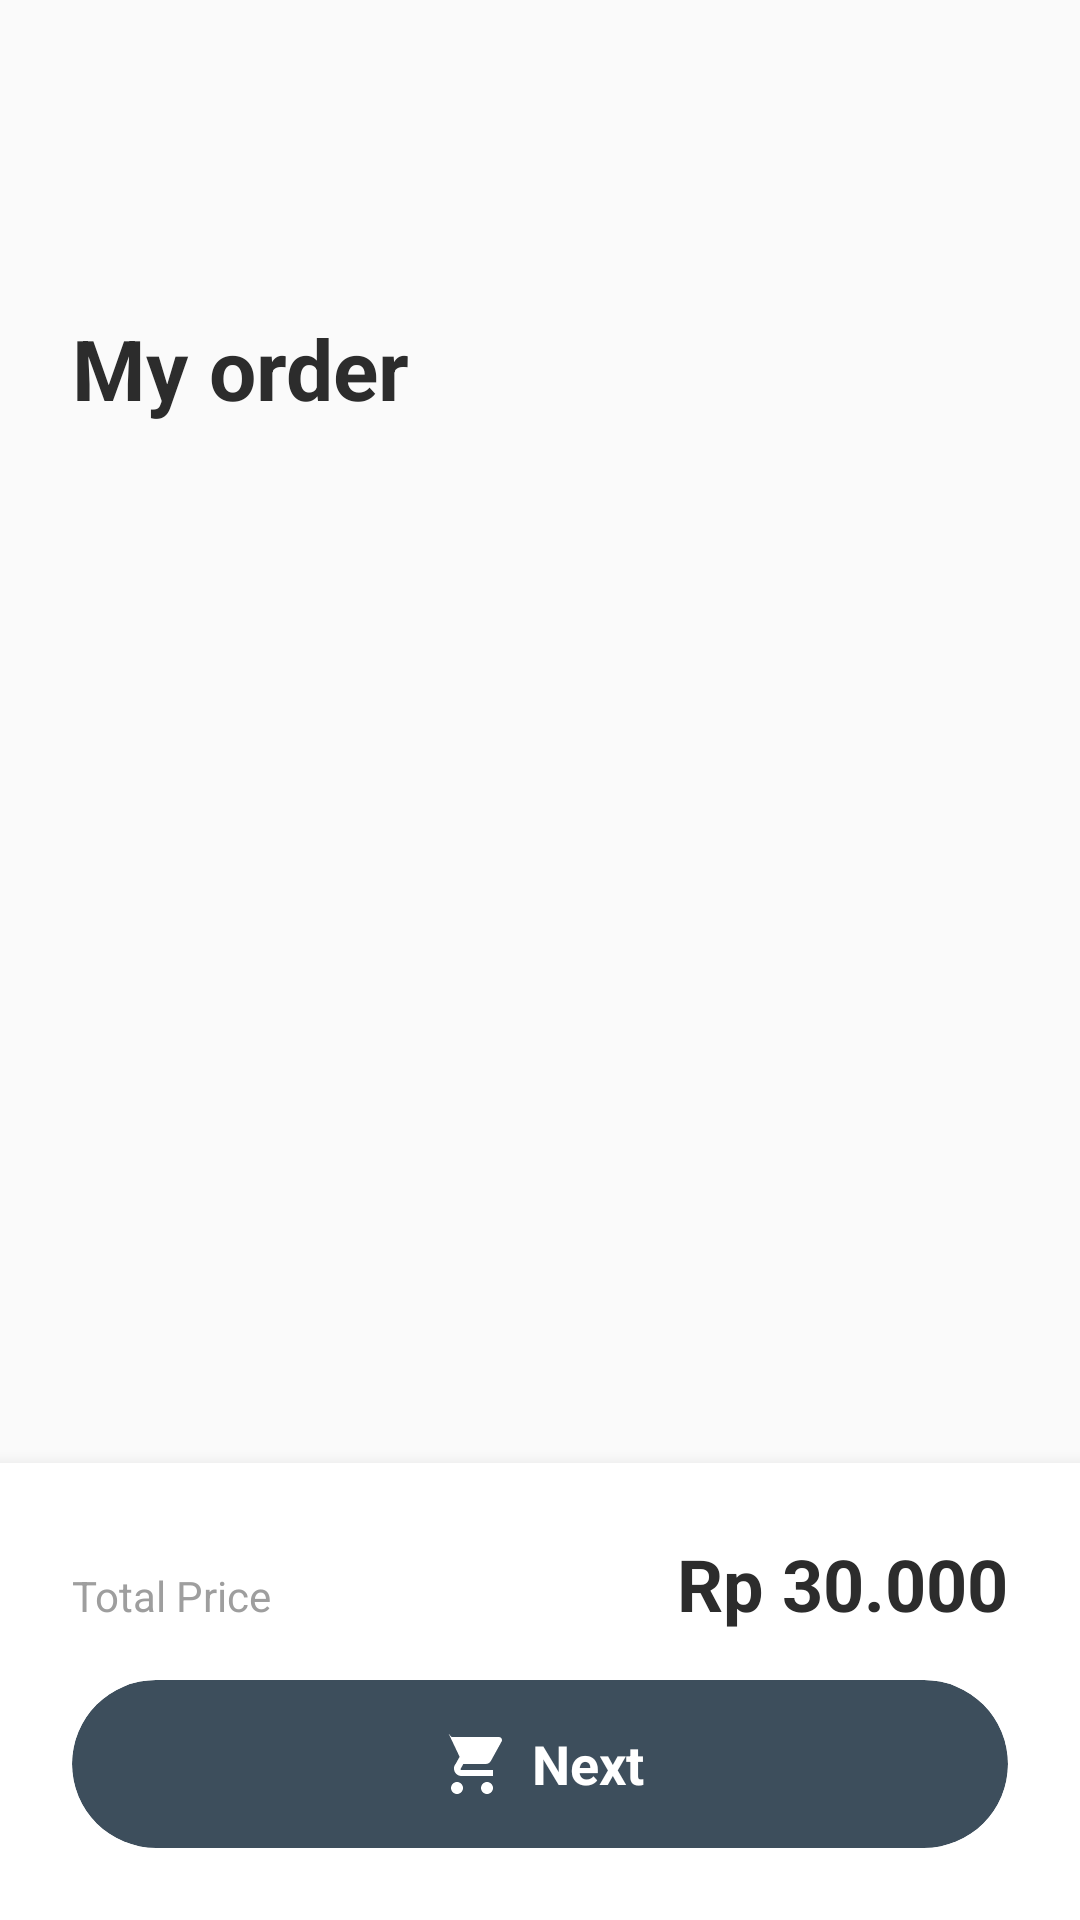

Point at icon controls on the screen. Image size 1080px×1920px, points as (x=x, y=y).
Cart: (x=475, y=1764)
